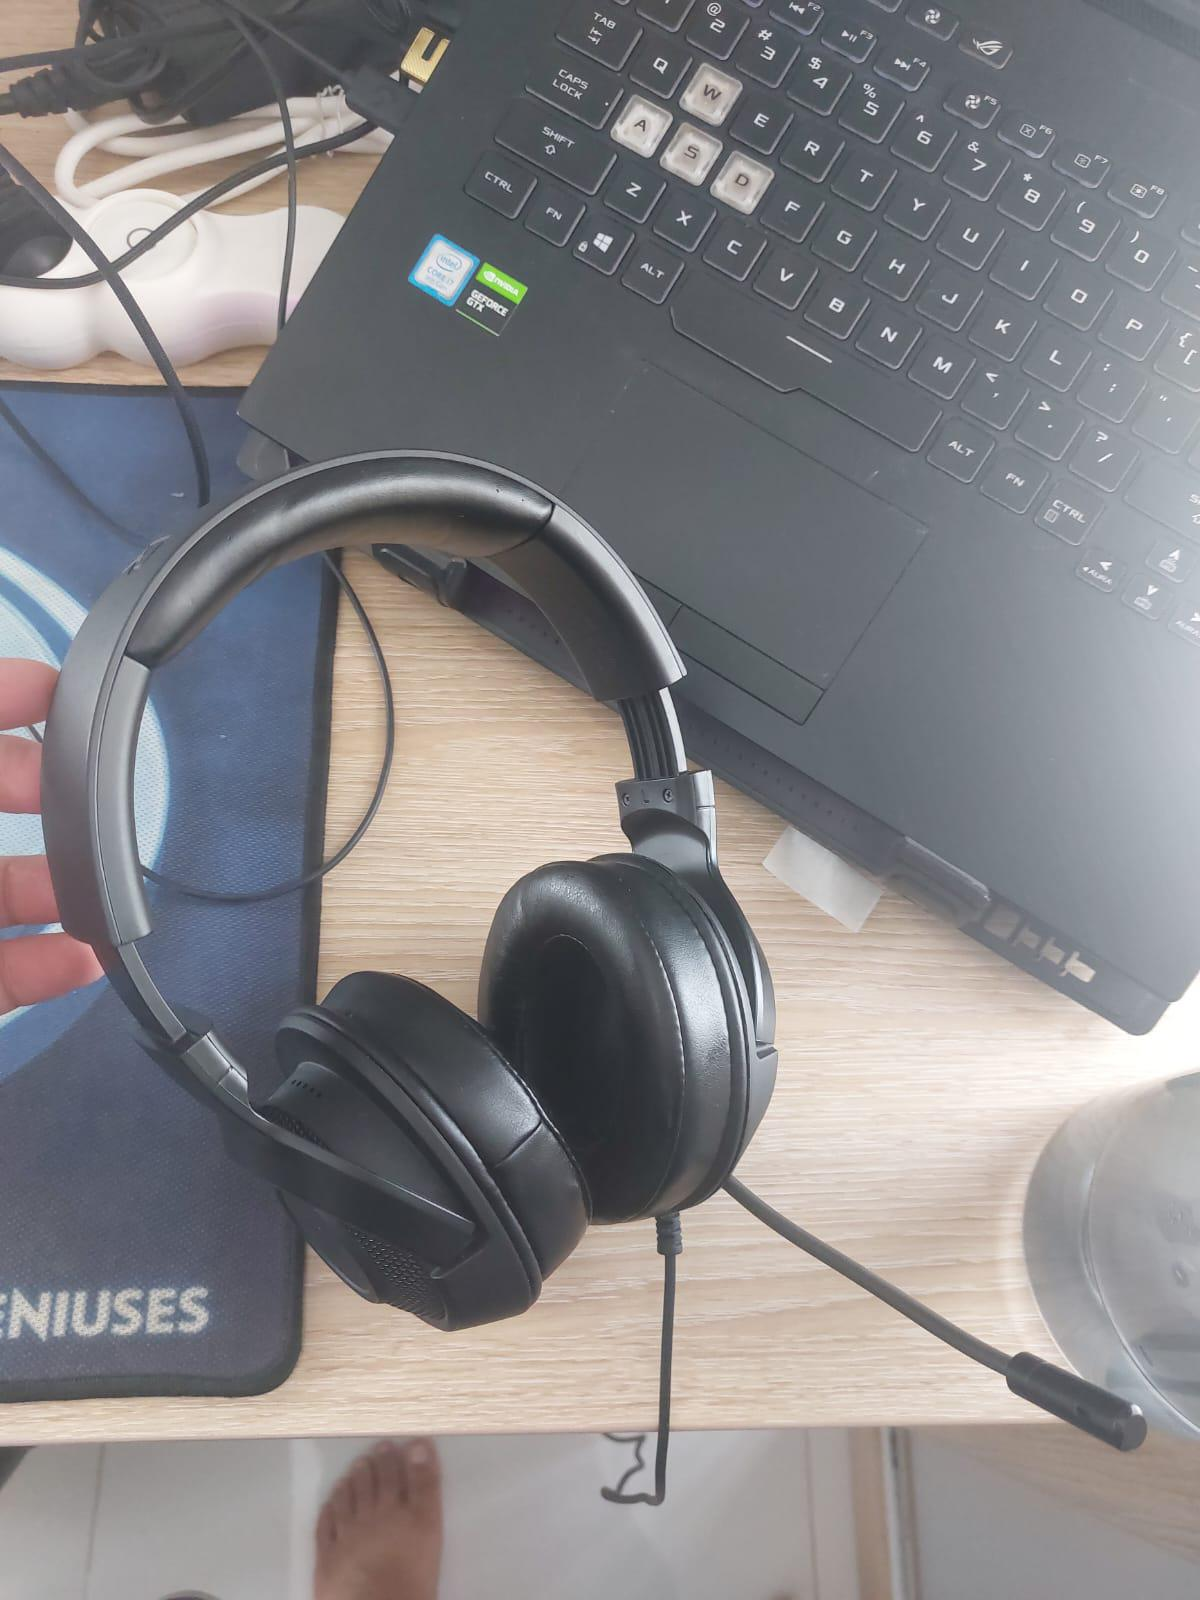Headset: (37, 426, 1171, 1490)
